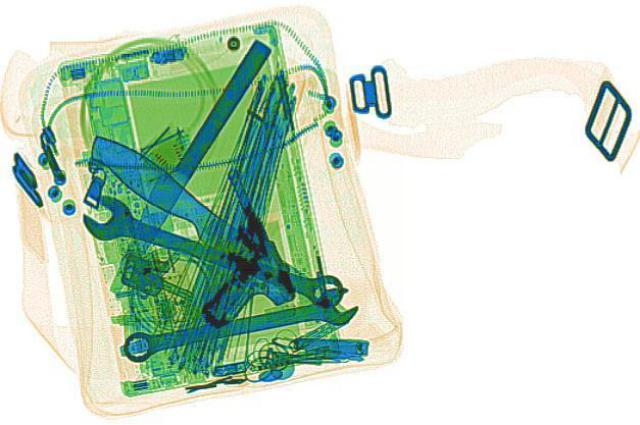Gun: (130, 165, 312, 326)
Knife: (94, 35, 272, 290), (70, 127, 322, 304)
Wrench: (65, 191, 358, 314), (111, 281, 367, 367)
